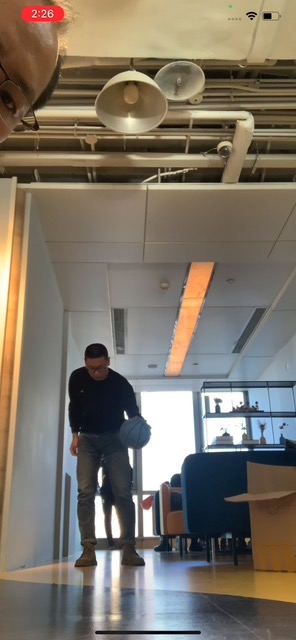ball: (119, 417, 150, 449)
